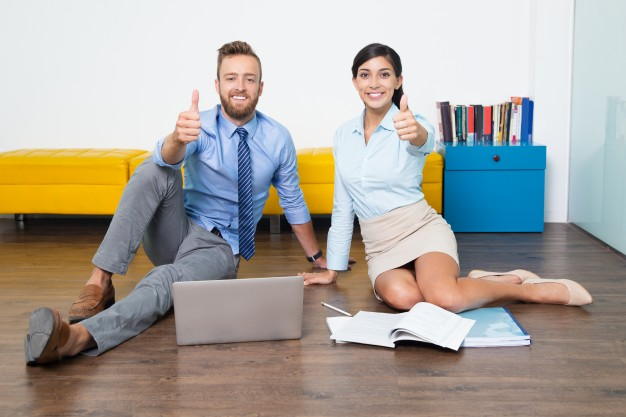thumbsup: (175, 90, 200, 142), (393, 95, 418, 140)
